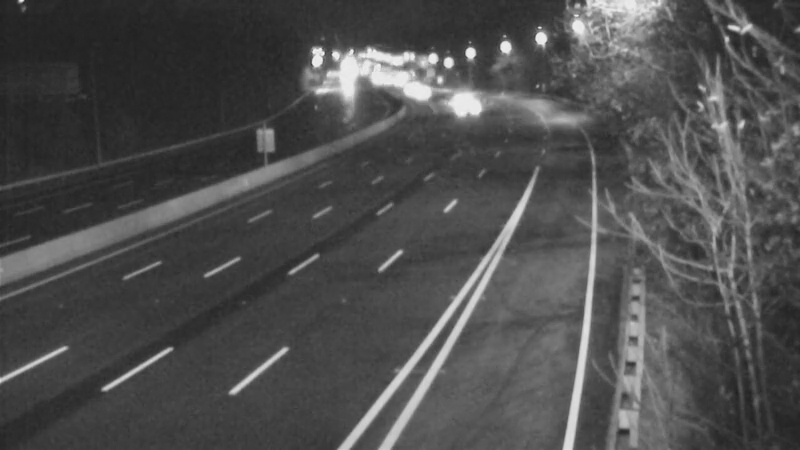vehicle: (382, 65, 432, 115), (396, 70, 446, 120), (430, 70, 480, 120), (439, 83, 489, 133)
